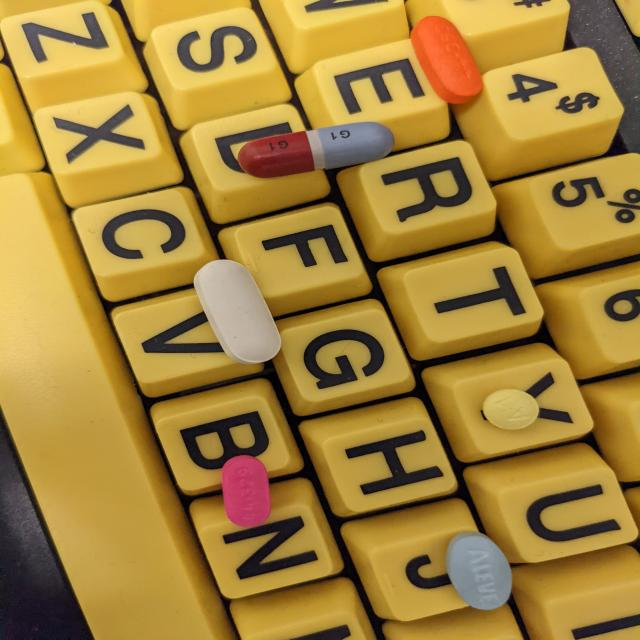non-organic waste: (236, 120, 395, 180), (192, 259, 282, 365), (408, 15, 486, 106), (444, 530, 514, 612), (220, 454, 273, 528), (481, 388, 539, 431)
